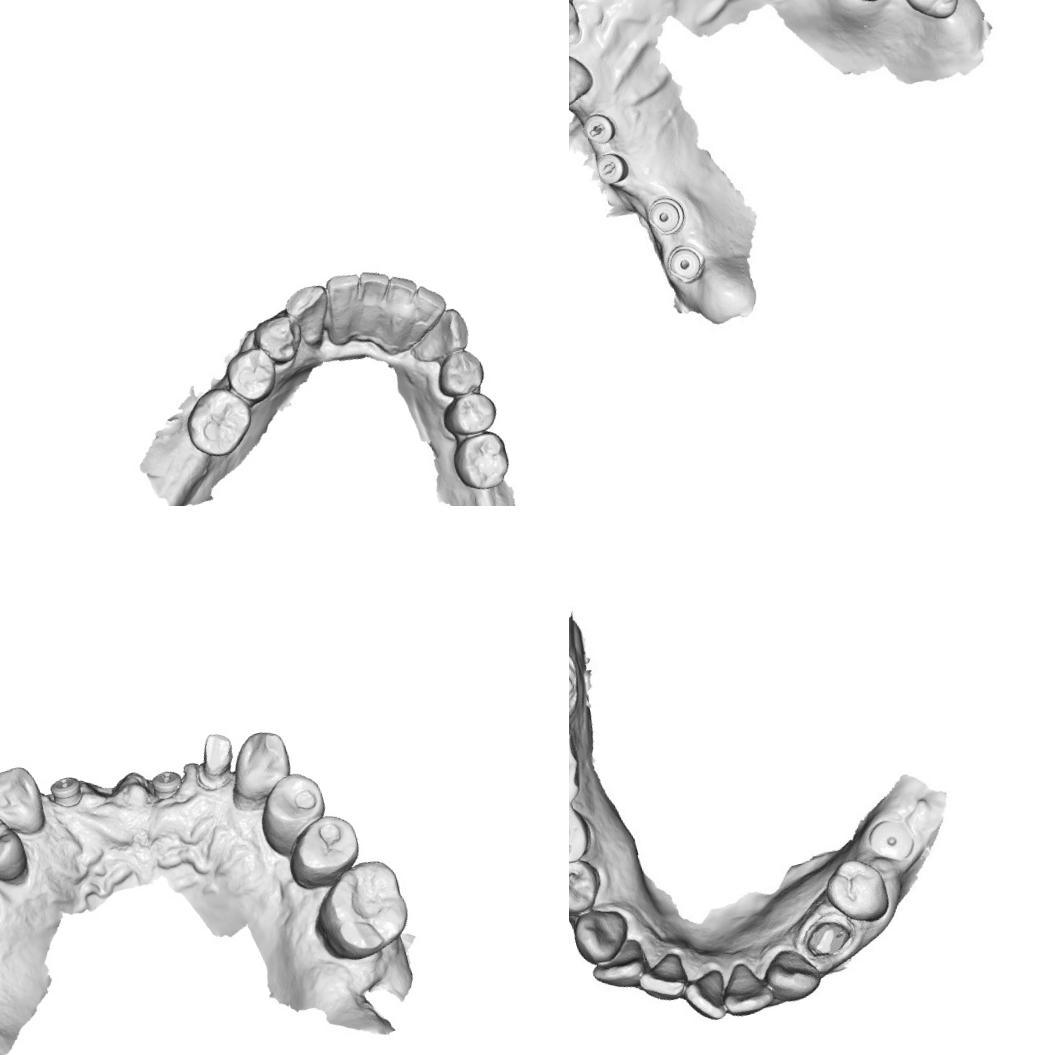canine: (221, 724, 299, 807), (402, 303, 475, 365), (761, 937, 826, 1003), (279, 280, 337, 351), (0, 761, 50, 842), (573, 902, 632, 962), (569, 39, 599, 114)
crown: (795, 906, 862, 971), (192, 726, 240, 780)
implant: (864, 808, 928, 876), (642, 192, 690, 238), (664, 240, 706, 290)
implant_minus: (44, 772, 88, 812), (592, 147, 632, 190), (578, 109, 620, 148), (146, 762, 185, 802)
incisor: (588, 933, 654, 998), (716, 956, 780, 1020), (636, 951, 694, 1012), (682, 964, 735, 1026), (321, 268, 370, 328), (405, 278, 453, 329), (352, 265, 396, 318), (381, 269, 423, 317), (569, 0, 590, 54)
molar: (300, 853, 418, 969), (177, 378, 262, 464), (446, 426, 516, 497), (825, 853, 891, 924), (886, 0, 974, 27), (569, 634, 588, 730), (569, 718, 587, 808)
premolar: (249, 766, 336, 862), (276, 807, 368, 895), (219, 342, 282, 408), (436, 386, 502, 440), (249, 310, 308, 370), (429, 346, 489, 401), (0, 806, 34, 894), (569, 850, 608, 917), (569, 800, 594, 864)
